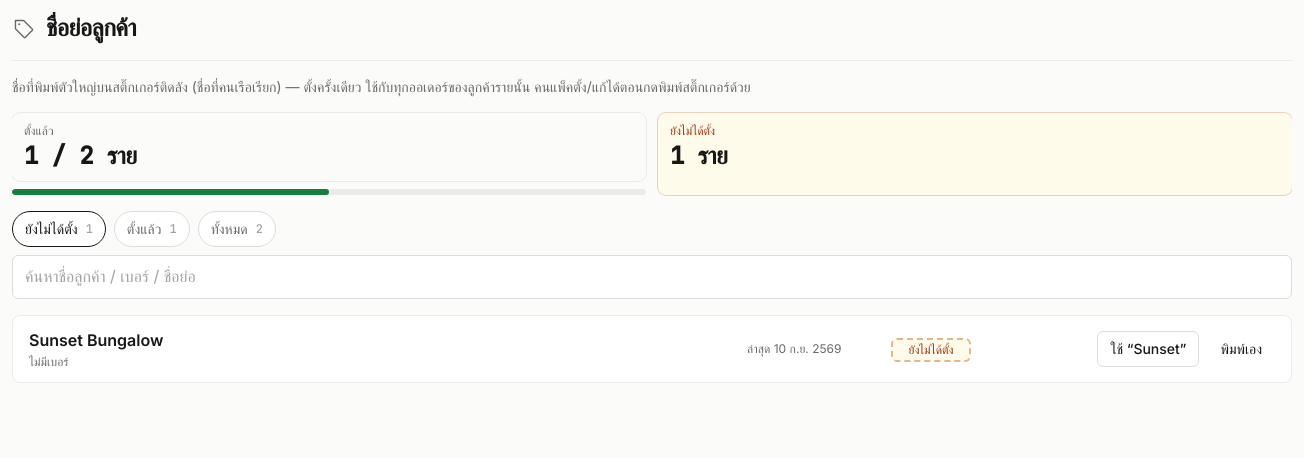
Test: a failed save shows a Thai error and keeps the row
This screenshot has width=1304, height=458.
Click the button "ใช้ “Sunset”" at (1148, 349), box [1097,331,1199,367]
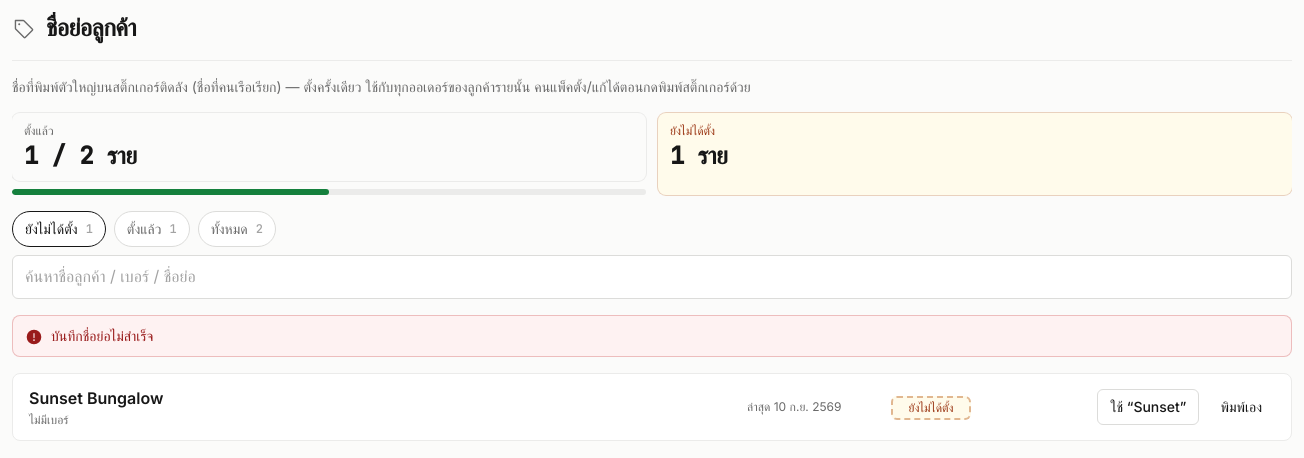
Expected: the text "Sunset Bungalow" is shown, [29,388,163,408]
Expected: the text "บันทึกชื่อย่อไม่สำเร็จ" is shown, [51,326,153,346]
